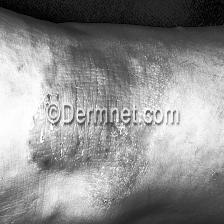Non-Cancerous Skin Condition: (24, 37, 172, 100), (22, 128, 157, 196)
